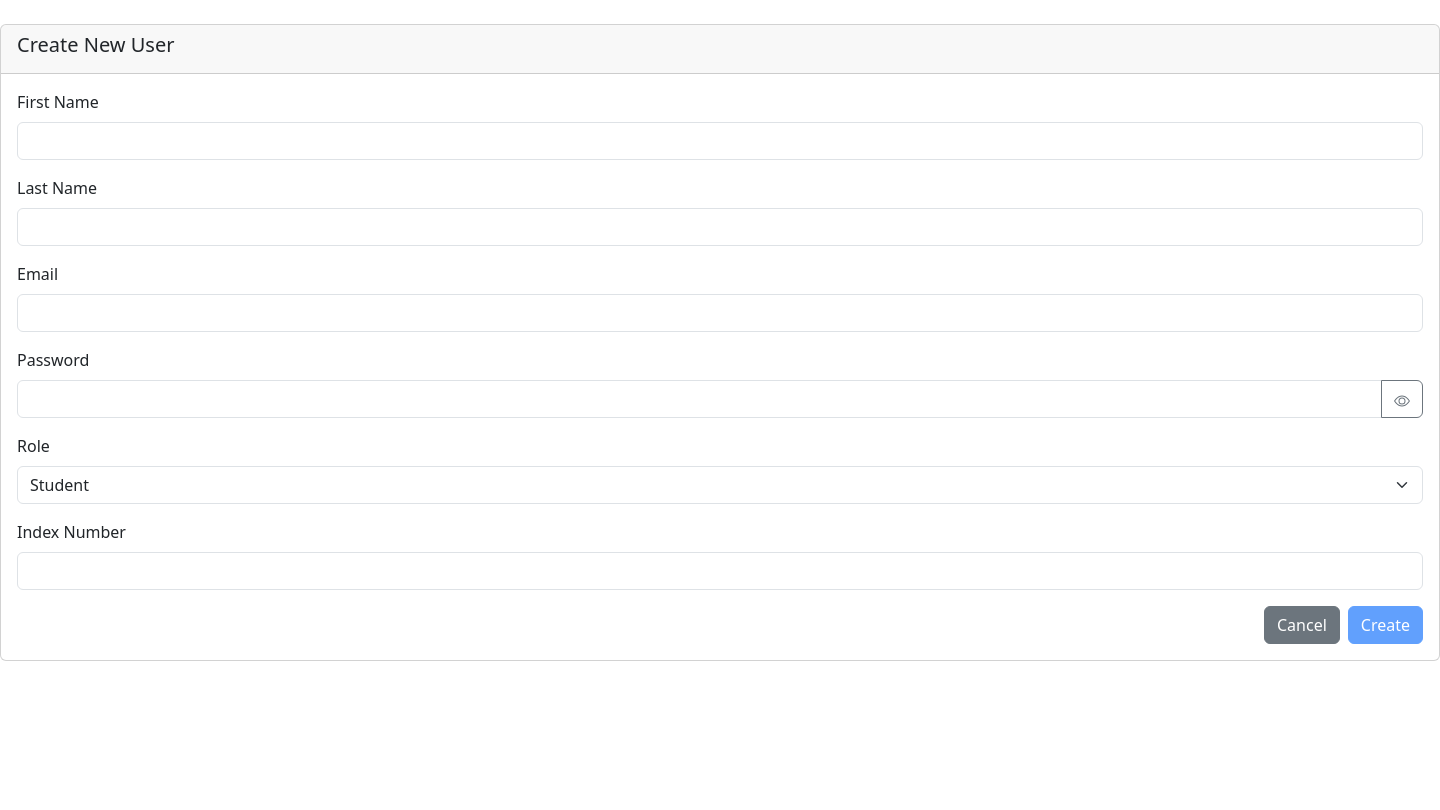
Scenario: UserCreateForm validation › shows a required error once a mandatory field is touched and left empty
Expected: the text "email is required" is not shown
Click the field labelled "Email" at coordinates (720, 313), box [17,294,1423,332]
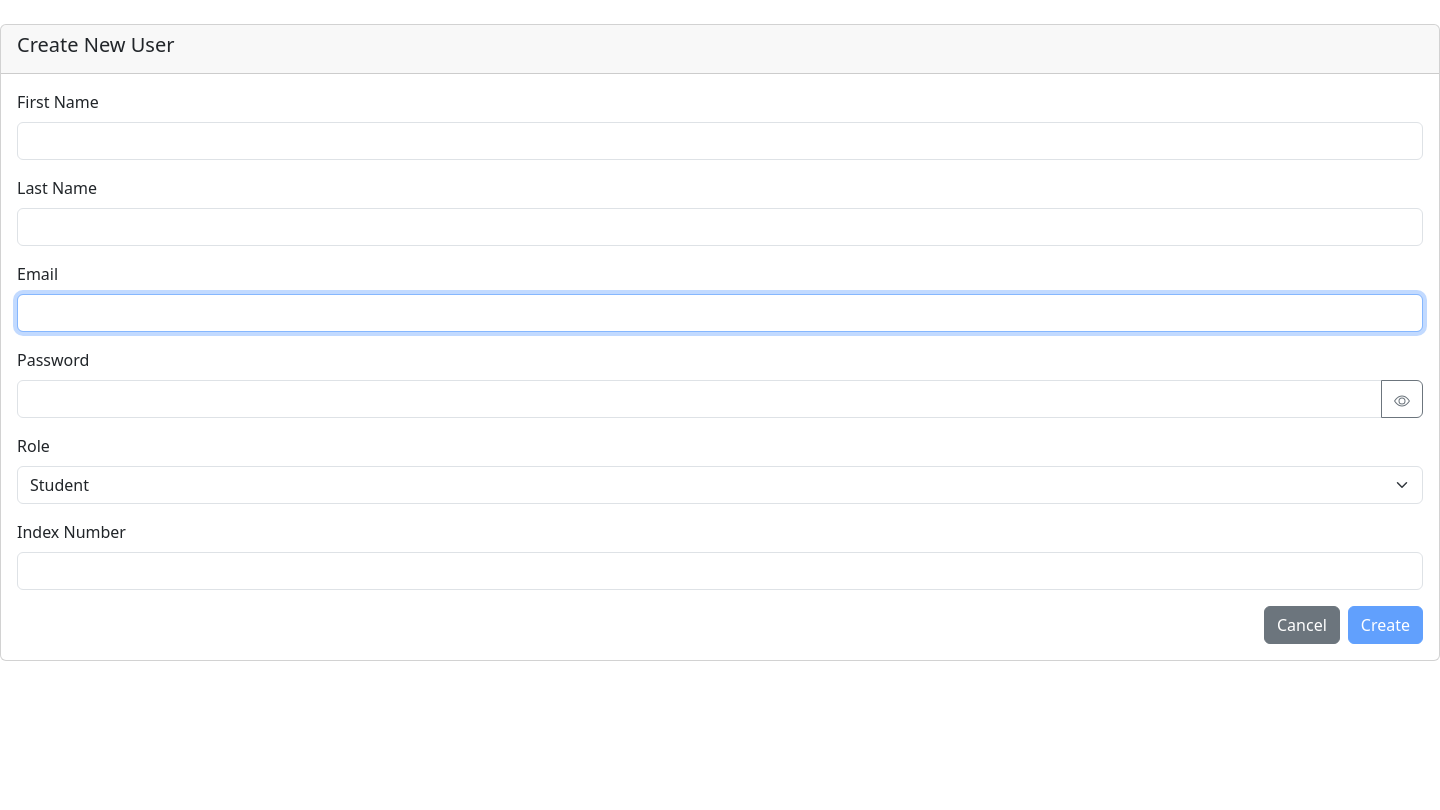
Press Tab
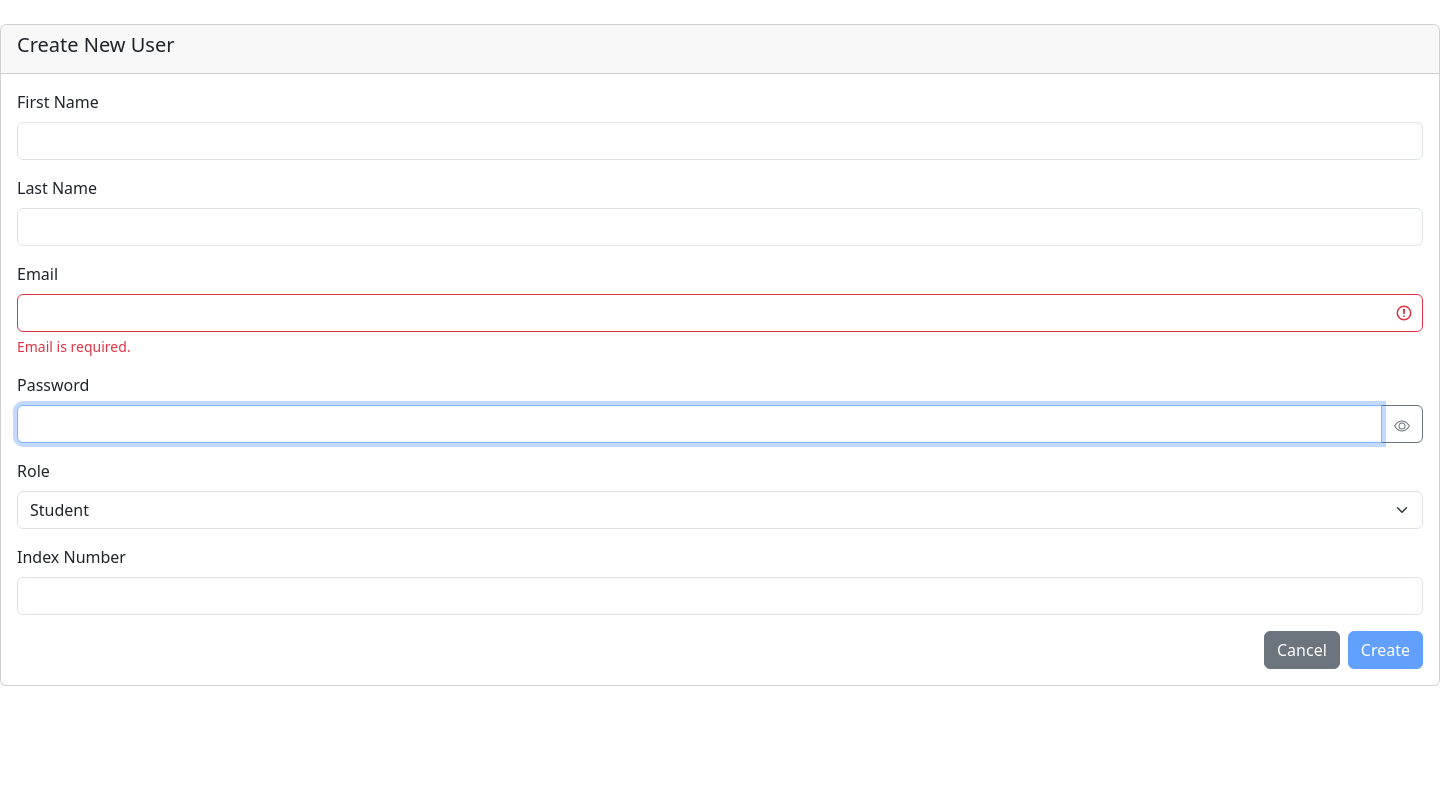
Now the text "Email is required." is shown, box [17,337,131,356]
